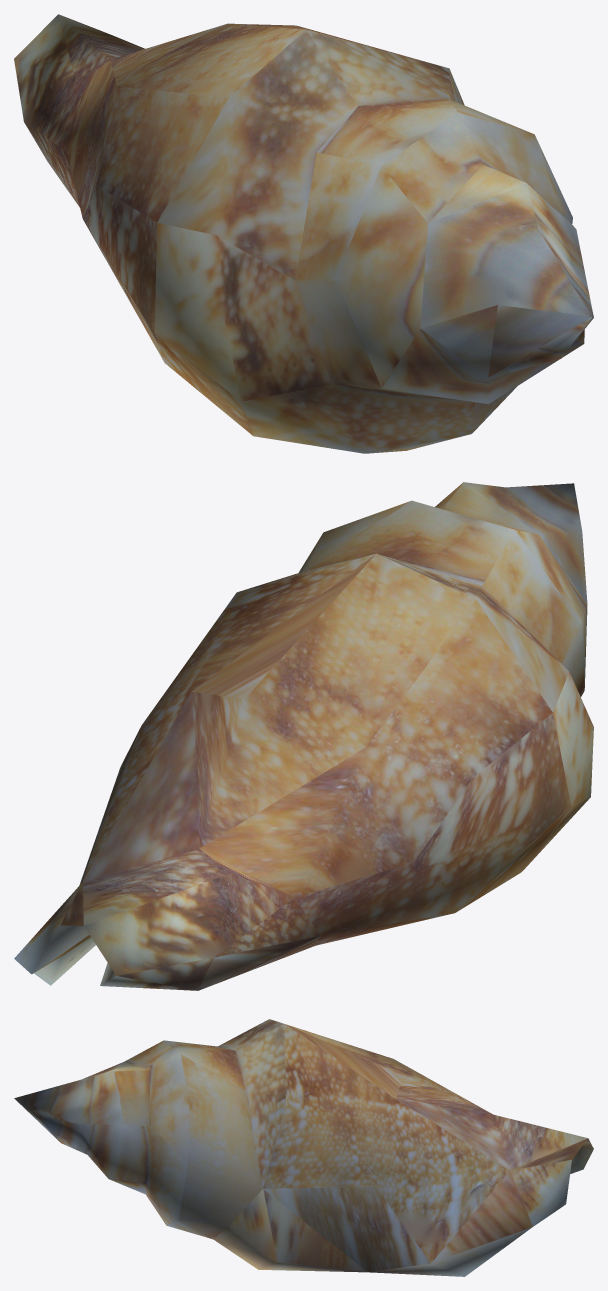
Rendered from SM_Seashell_16_LOD2.fbx.
3 renders of one model, top to bottom at view 1: azimuth 30°, elevation 25°; view 2: azimuth 150°, elevation 25°; view 3: azimuth 270°, elevation 25°, orthographic. The views are drawn at different scales.
Parts seen in each view (by area): view 1: SM_Seashell_16_LOD2; view 2: SM_Seashell_16_LOD2; view 3: SM_Seashell_16_LOD2.
Part boxes in pixels (x1,y1,x2,y2): SM_Seashell_16_LOD2: (14, 14, 593, 453); SM_Seashell_16_LOD2: (14, 482, 593, 990); SM_Seashell_16_LOD2: (14, 1019, 593, 1276).
Bounding box in the file's own units: 2.51 × 2.32 × 5.93.
1 material, 1 textured.
